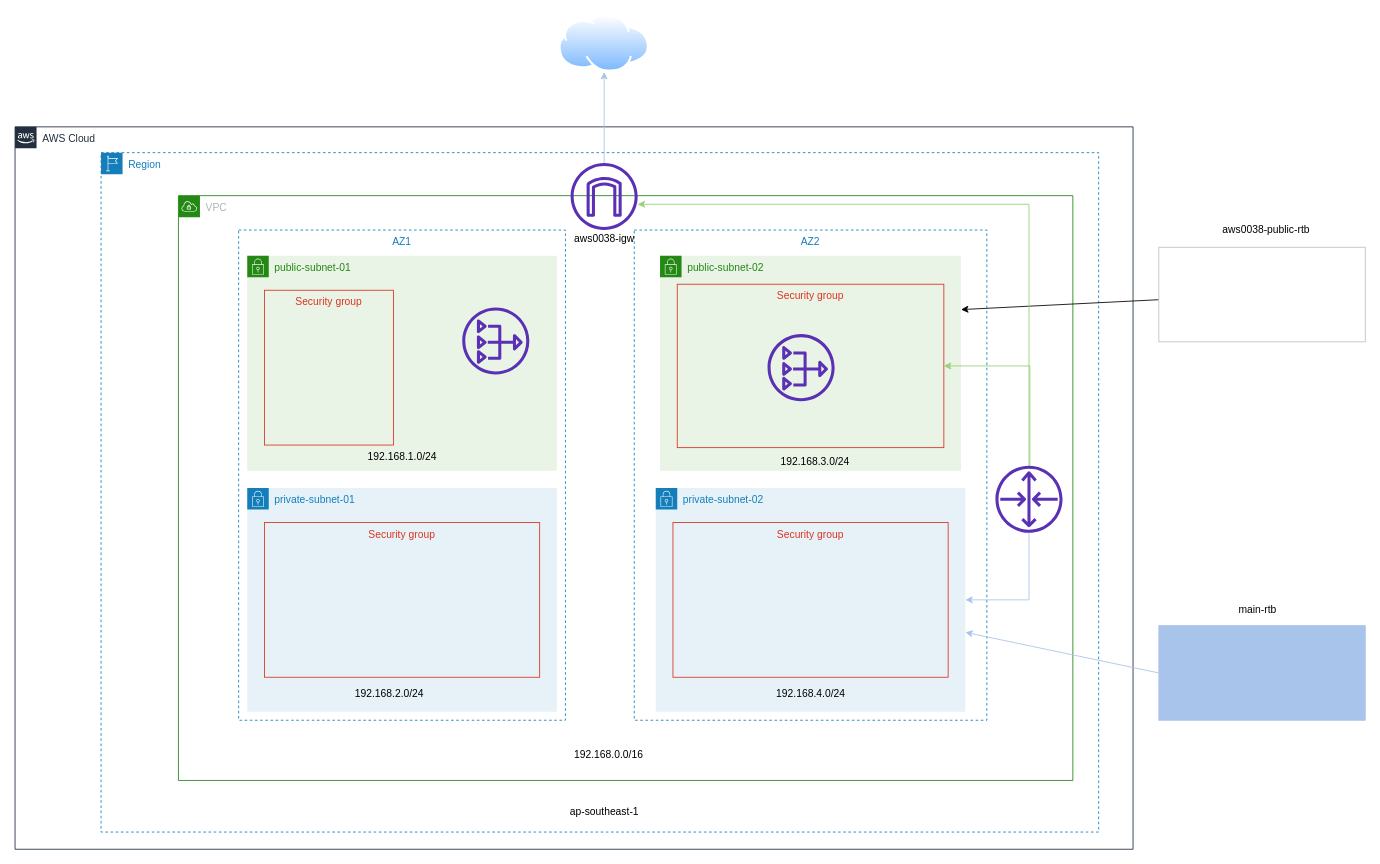
Some shapes in this 1380 by 864 pixel diagram are drawn without their labels. The shapes that lost their labels are listed below. From the top down, each one's centre as x and y in pixels, then its label:
At pixel 1261 294: "Destination Target 192.168.0.0/16 local 0.0.0.0/0 aws0038-igw".
At pixel 800 367: "natgw-aws0038".
At pixel 1028 498: "Router".
At pixel 1261 672: "Destination Target 192.168.0.0/16 local 0.0.0.0/0 aws0038-natgw".
